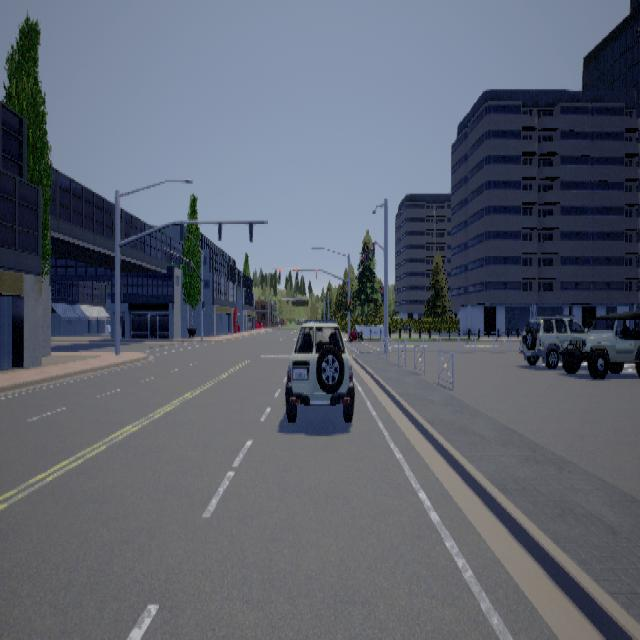vehicle: (284, 315, 354, 421), (561, 310, 639, 372), (518, 310, 590, 372)
